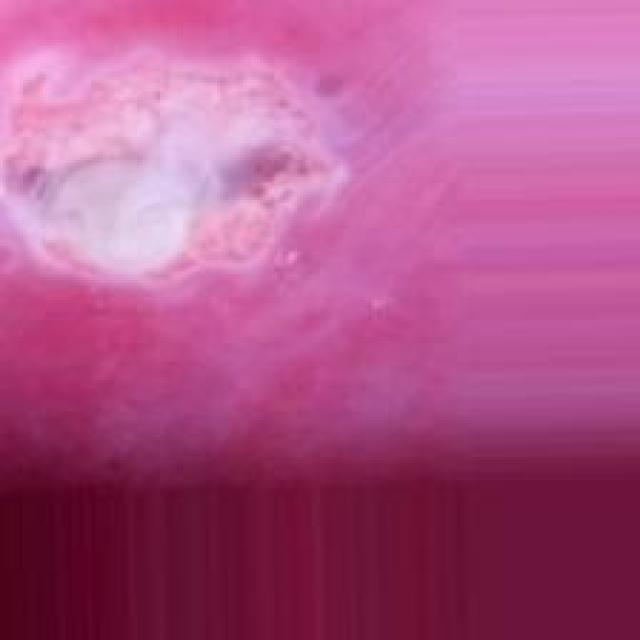type-1: (0, 5, 420, 482)
